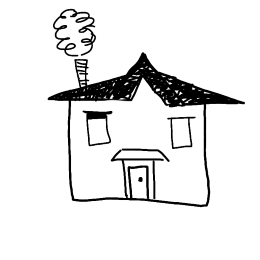door: (110, 144, 170, 206)
open_window: (80, 107, 115, 149), (164, 111, 200, 150)
shaded_roof: (44, 51, 255, 108)
smoking_chimney: (39, 6, 105, 94)
wall: (65, 98, 213, 209)
